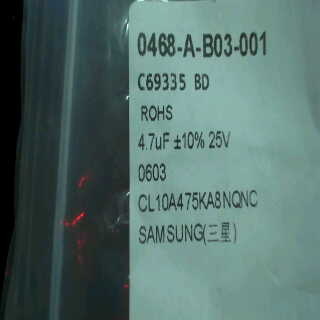4.7uF: (137, 128, 171, 156)
